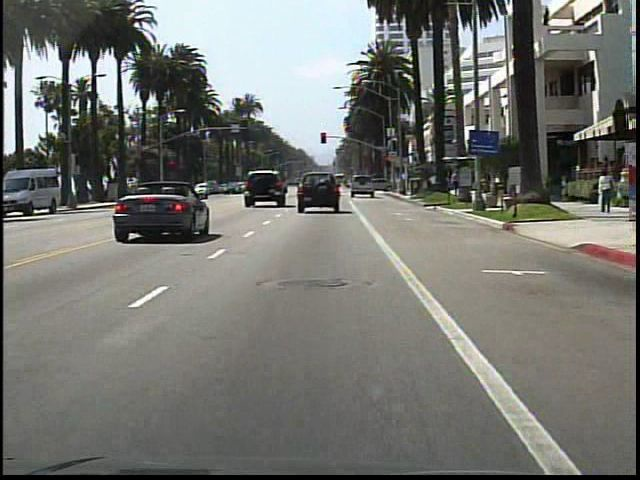person: (593, 168, 612, 217), (426, 171, 440, 196)
